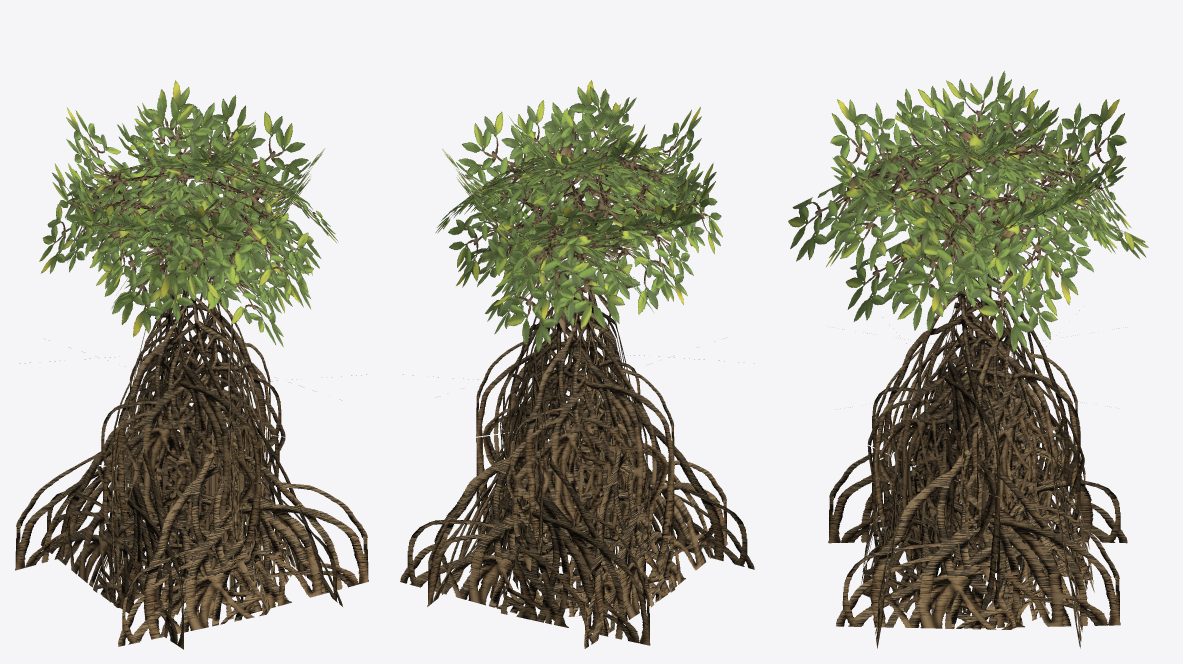
Rendered from flora_tree_mangrove_v3.glb.
The picture shows the model from 3 angles, left to right: view 1: azimuth 30°, elevation 25°; view 2: azimuth 150°, elevation 25°; view 3: azimuth 270°, elevation 25°; orthographic projection. The views are drawn at different scales.
Parts seen in each view (by area): view 1: flora_tree_mangrove_v3_part0, flora_tree_mangrove_v3_part1; view 2: flora_tree_mangrove_v3_part0, flora_tree_mangrove_v3_part1; view 3: flora_tree_mangrove_v3_part0, flora_tree_mangrove_v3_part1.
Boxes of the visible parts, x1,y1,x2,y2 form: flora_tree_mangrove_v3_part0: [15, 262, 368, 649]; flora_tree_mangrove_v3_part1: [39, 80, 338, 346]; flora_tree_mangrove_v3_part0: [400, 249, 754, 648]; flora_tree_mangrove_v3_part1: [435, 80, 722, 352]; flora_tree_mangrove_v3_part0: [828, 256, 1127, 648]; flora_tree_mangrove_v3_part1: [788, 71, 1148, 351].
Bounding box in the file's own units: 11.63 × 18.07 × 11.78.
2 materials, 2 textured.
